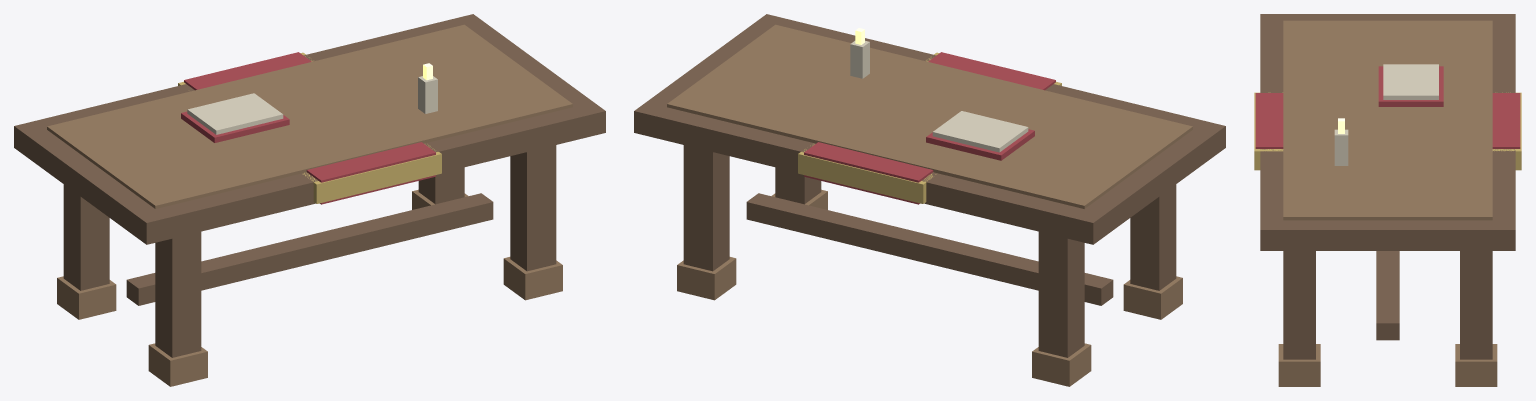
Rendered from castle_table.glb.
3 views of the same model, side by side, from view 1: azimuth 30°, elevation 25°; view 2: azimuth 150°, elevation 25°; view 3: azimuth 270°, elevation 25° (orthographic). The views are drawn at different scales.
Parts seen in each view (by area): view 1: Castle_Table; view 2: Castle_Table; view 3: Castle_Table.
Boxes of the visible parts, x1,y1,x2,y2 form: Castle_Table: (14, 14, 605, 386); Castle_Table: (634, 14, 1225, 386); Castle_Table: (1254, 14, 1521, 386).
Size of the model in its own units: 2.2 by 1.04 by 1.15.
